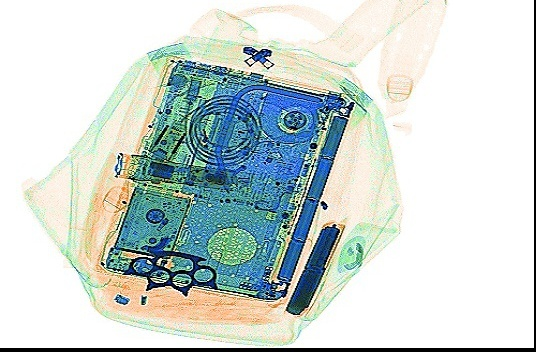powerbank: (283, 217, 345, 317)
